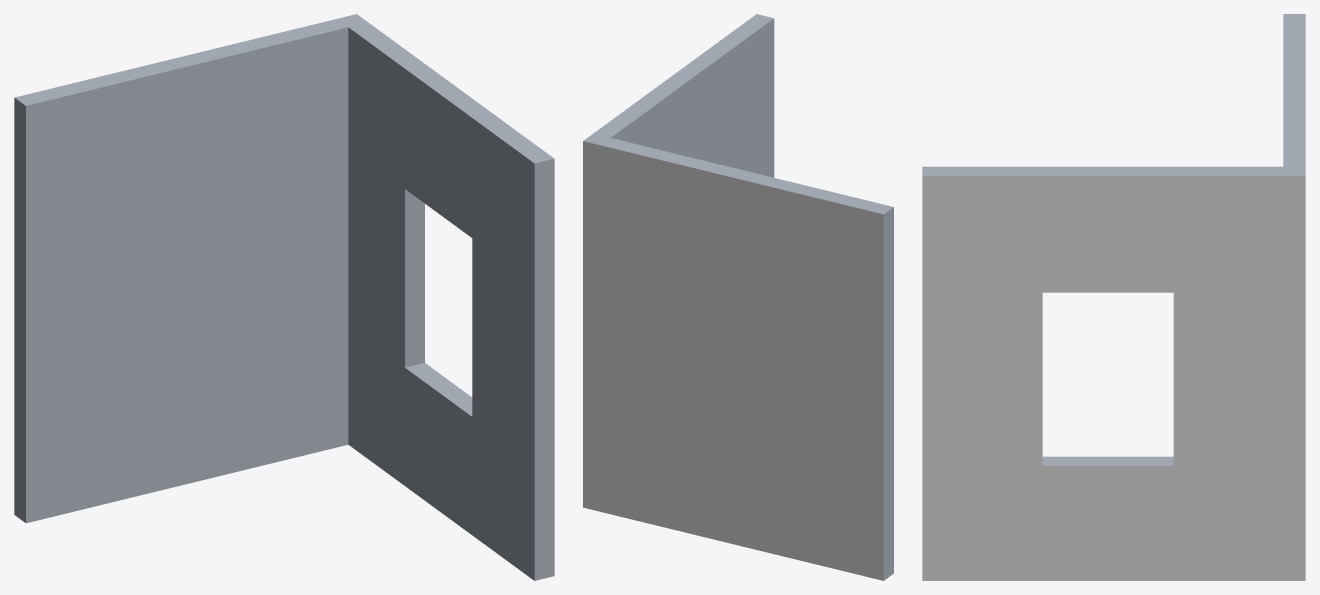
File: Wall1_C5_08.fbx
3 renders of one model, left to right at view 1: azimuth 30°, elevation 25°; view 2: azimuth 150°, elevation 25°; view 3: azimuth 270°, elevation 25°, orthographic. The views are drawn at different scales.
Parts seen in each view (by area): view 1: Wall1_C5_08; view 2: Wall1_C5_08; view 3: Wall1_C5_08.
Part boxes in pixels (box(x1,y1,x2,y2)): Wall1_C5_08: box(14, 14, 554, 580); Wall1_C5_08: box(583, 14, 893, 580); Wall1_C5_08: box(922, 14, 1305, 580).
Size of the model in its own units: 258 by 300 by 258.
